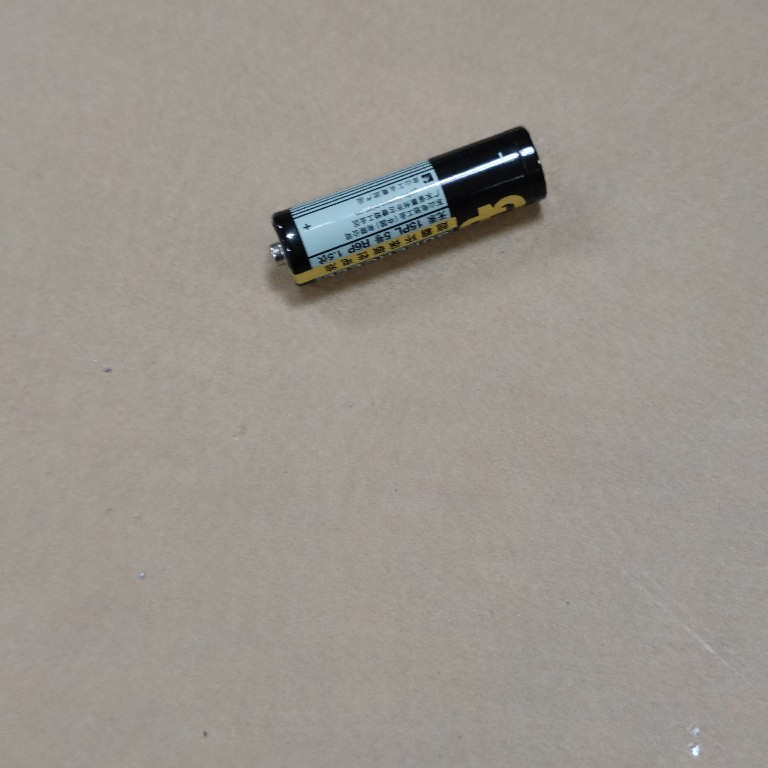charge: (265, 122, 549, 290)
